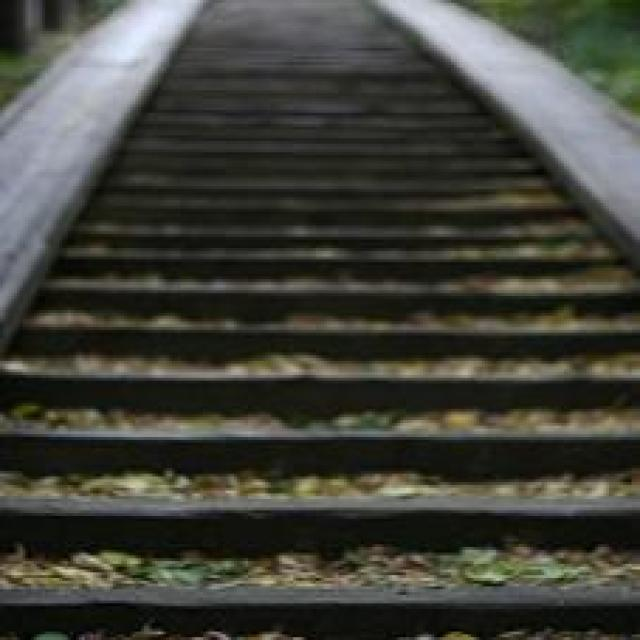Stair Up: (1, 0, 640, 636)
